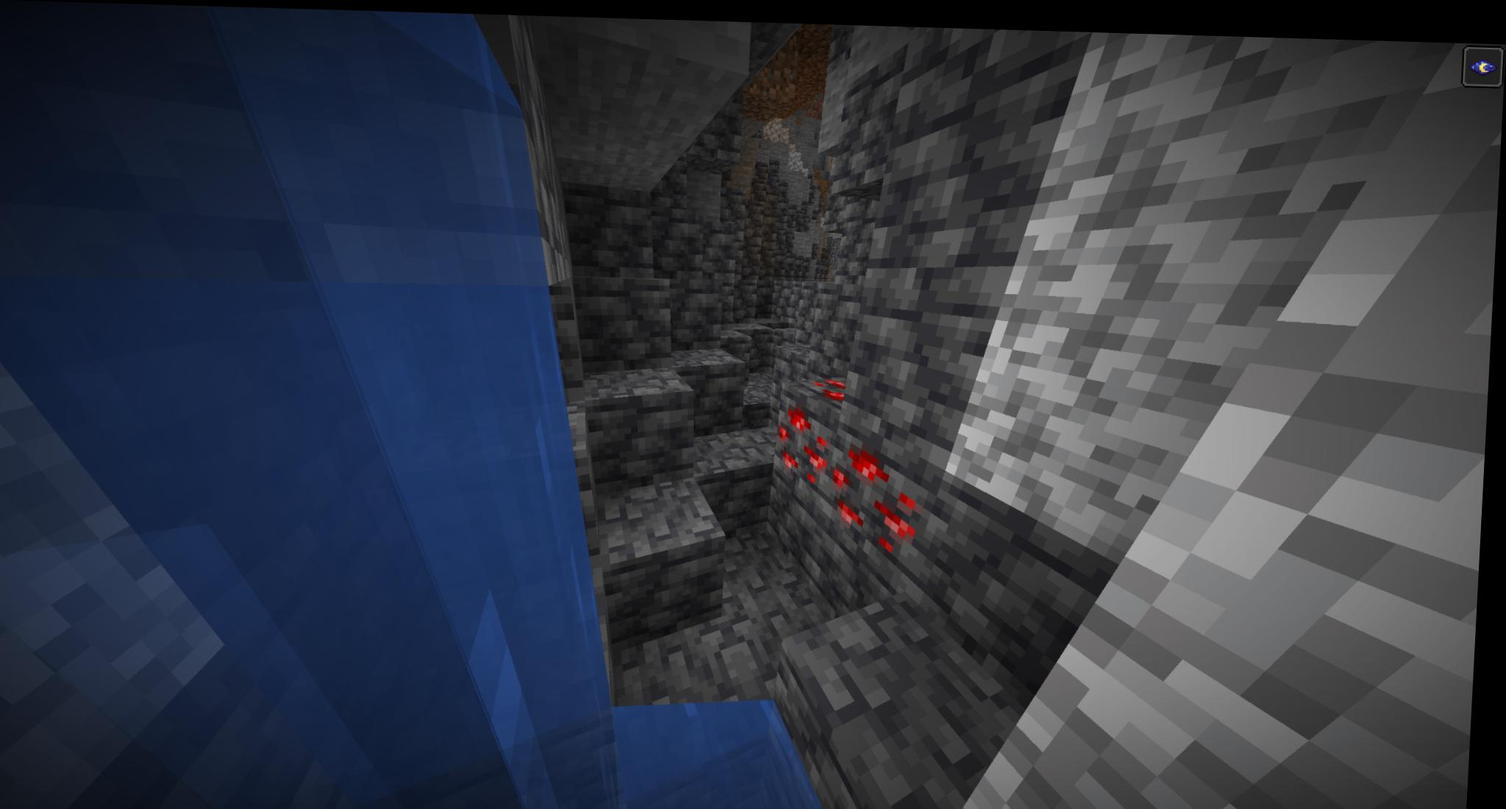redstone ore: (822, 423, 937, 556), (774, 394, 841, 488)
